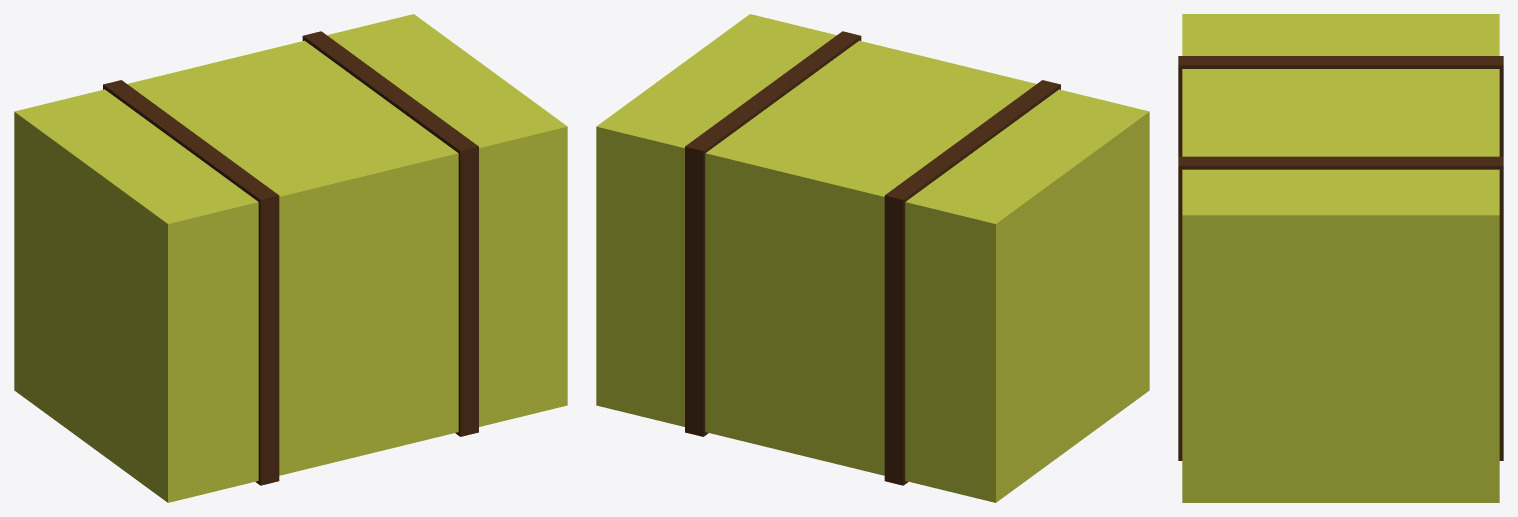
File: СтогСена2.FBX
3 renders of one model, left to right at view 1: azimuth 30°, elevation 25°; view 2: azimuth 150°, elevation 25°; view 3: azimuth 270°, elevation 25°, orthographic. The views are drawn at different scales.
Visible parts, largest first — view 1: Box001; view 2: Box001; view 3: Box001.
Part boxes in pixels (x1,y1,x2,y2): Box001: (14,14,567,502); Box001: (596,14,1149,502); Box001: (1178,14,1503,502).
Size of the model in its own units: 60 by 41 by 41.
